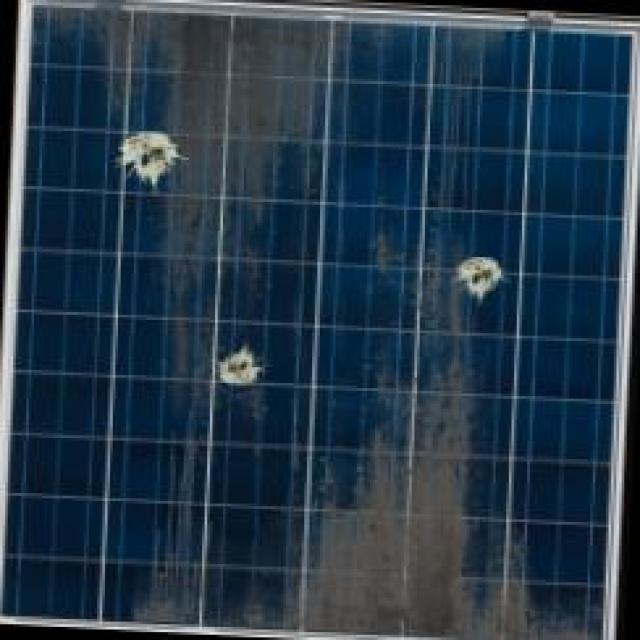Physical-damage: (310, 526, 522, 637), (106, 10, 328, 91), (102, 107, 222, 213), (195, 310, 295, 415), (392, 383, 462, 527), (441, 236, 517, 320), (133, 582, 208, 621)
